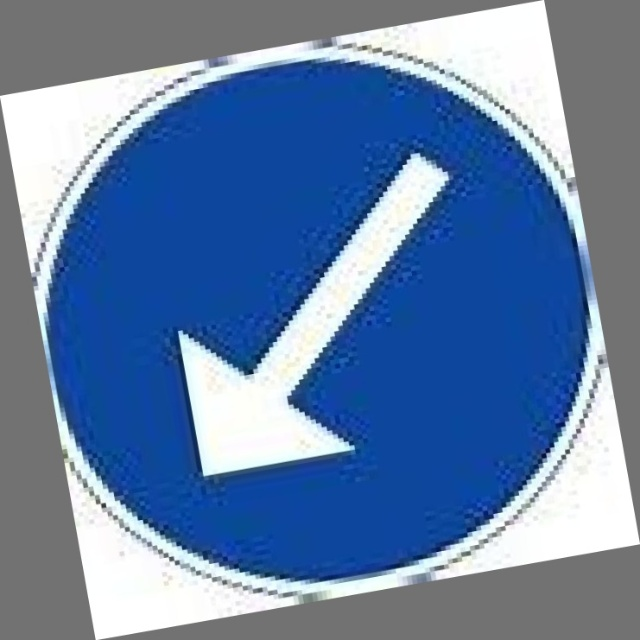R.301e: (0, 1, 634, 635)
